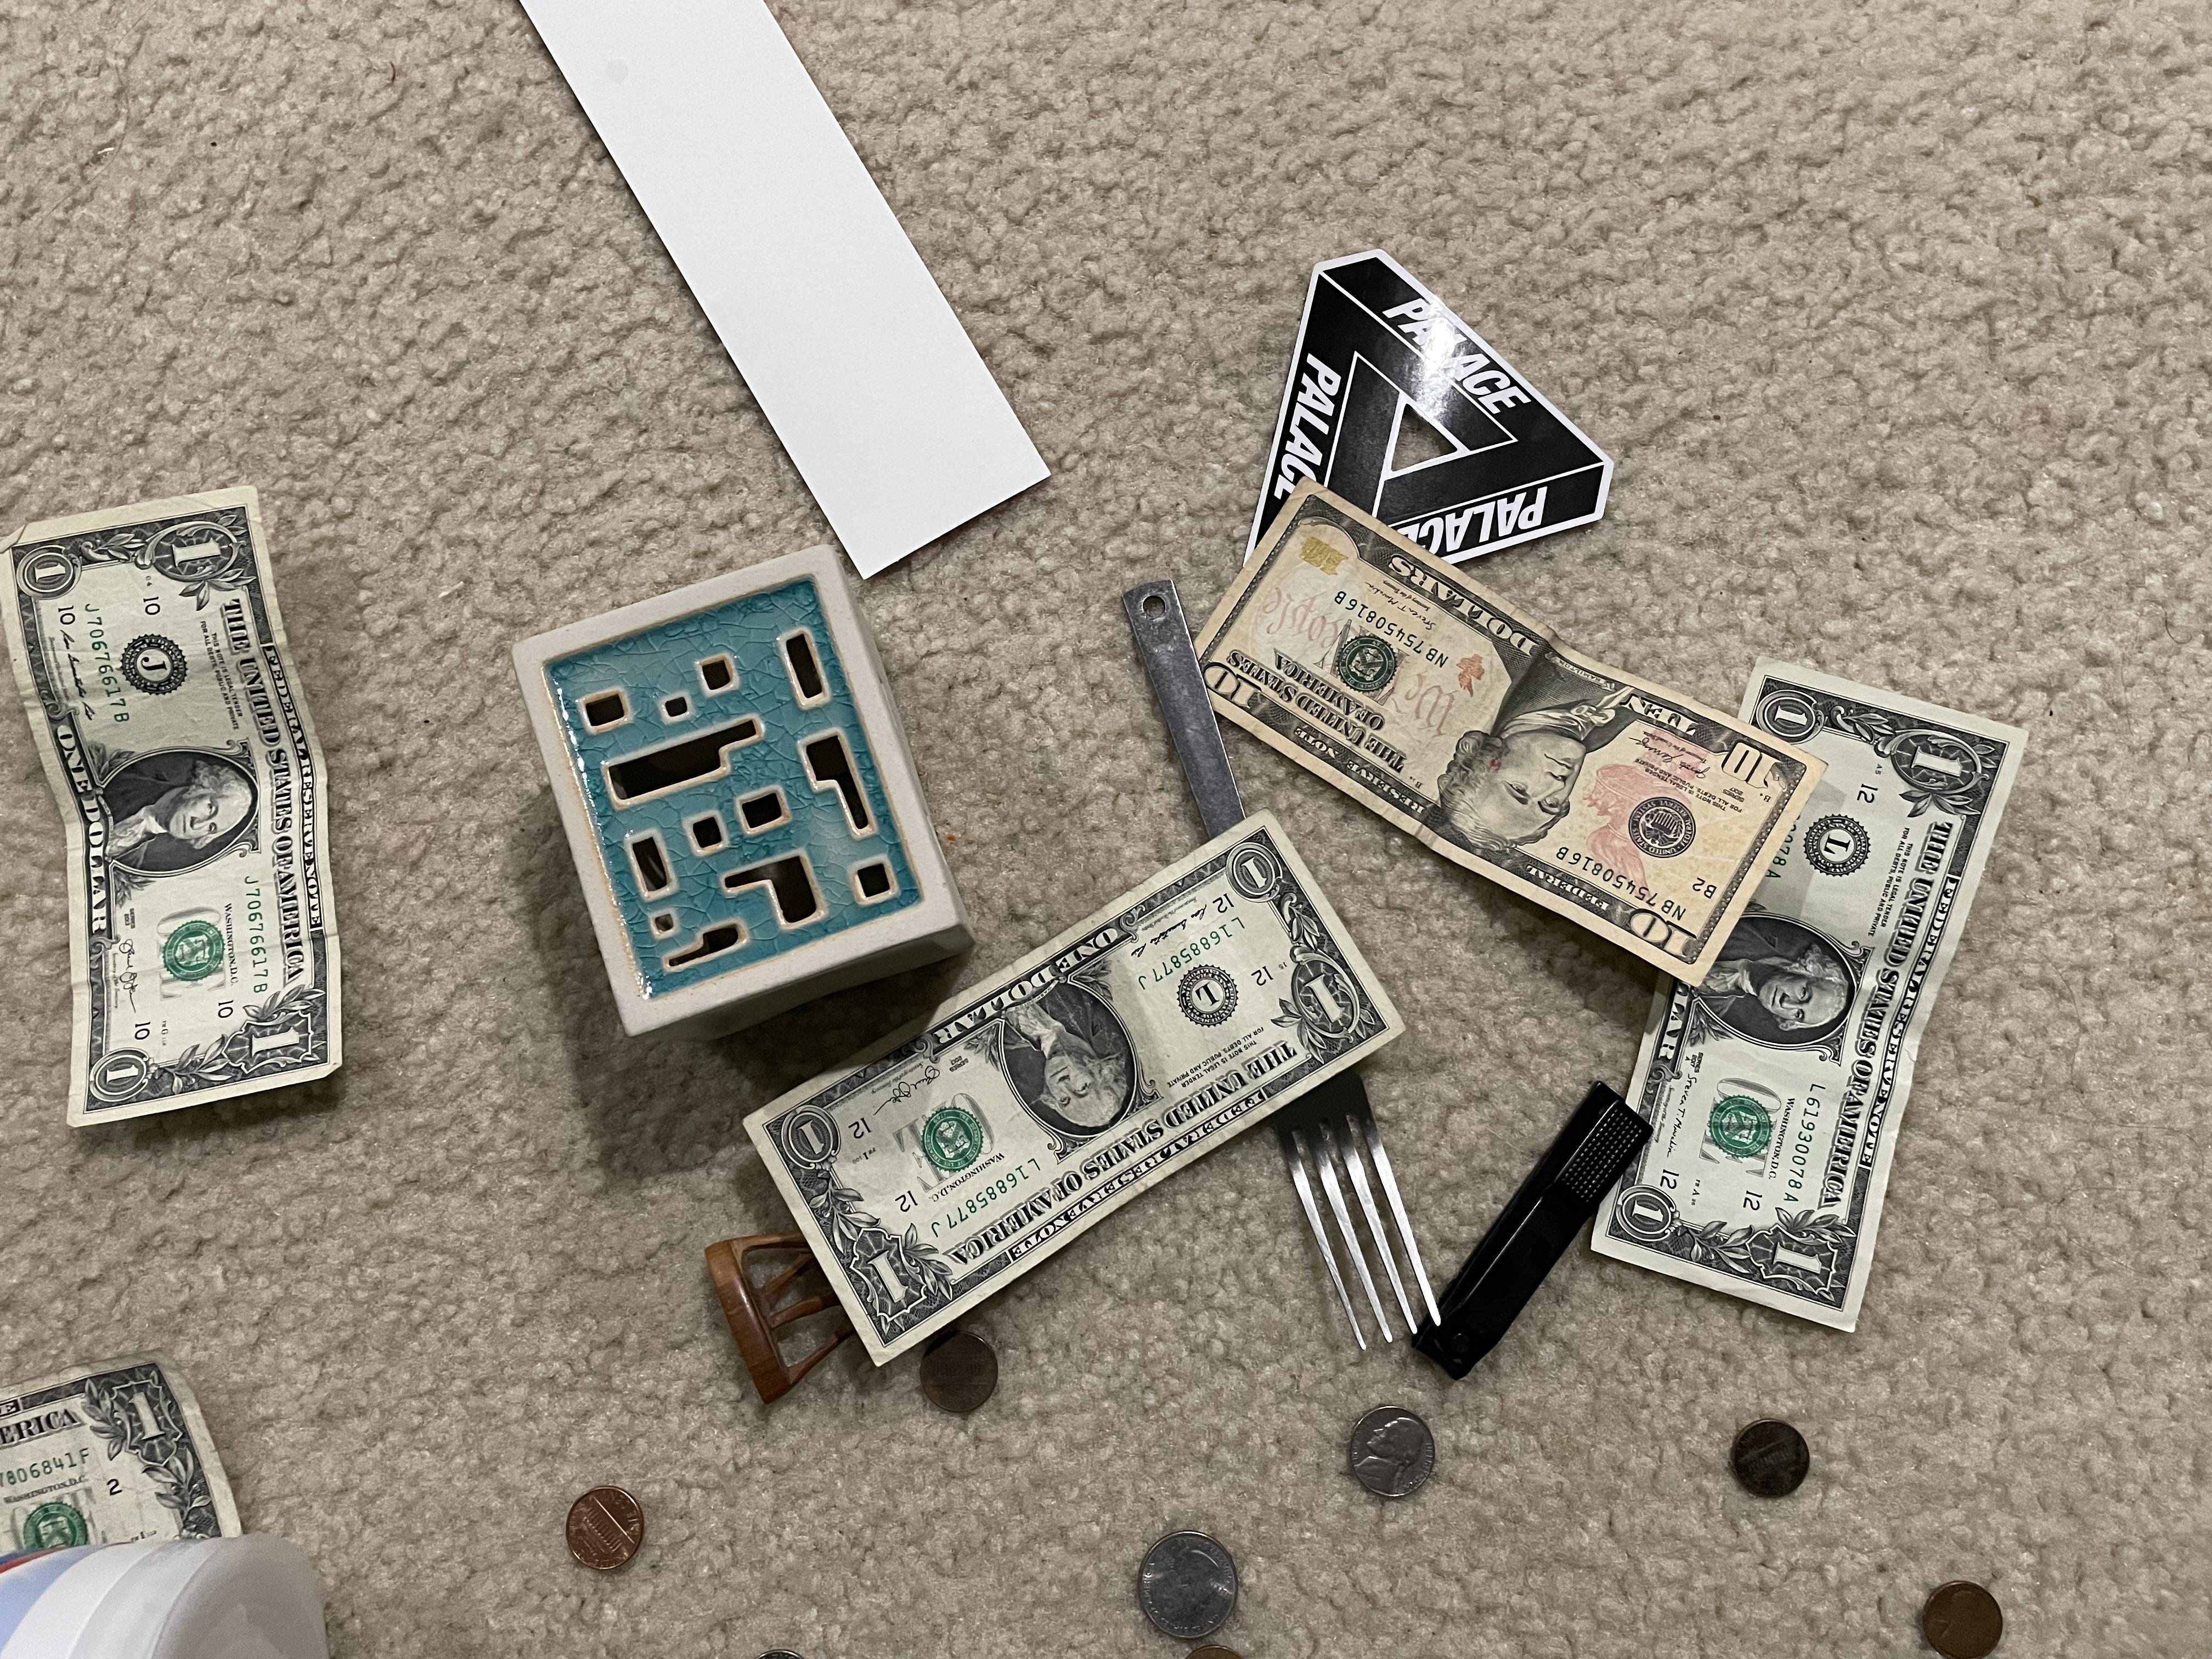Nickel: (1345, 1408, 1451, 1499)
OneBill: (730, 800, 1416, 1370), (1602, 629, 2034, 1380), (2, 490, 369, 1141)
Penny: (913, 1323, 1005, 1422), (563, 1476, 653, 1575), (1726, 1417, 1808, 1506), (1912, 1577, 2008, 1652)
Quarter: (1130, 1530, 1251, 1647)
TenBill: (1181, 477, 1829, 993)
